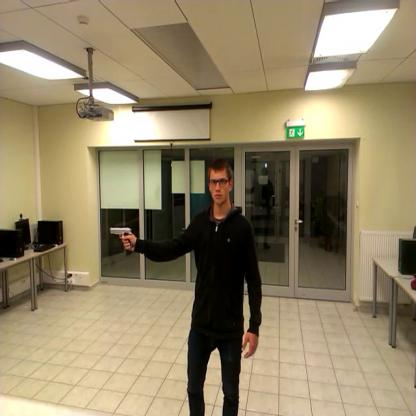Pistol: (106, 215, 143, 258)
